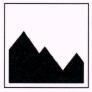sinais: (0, 1, 92, 91)
